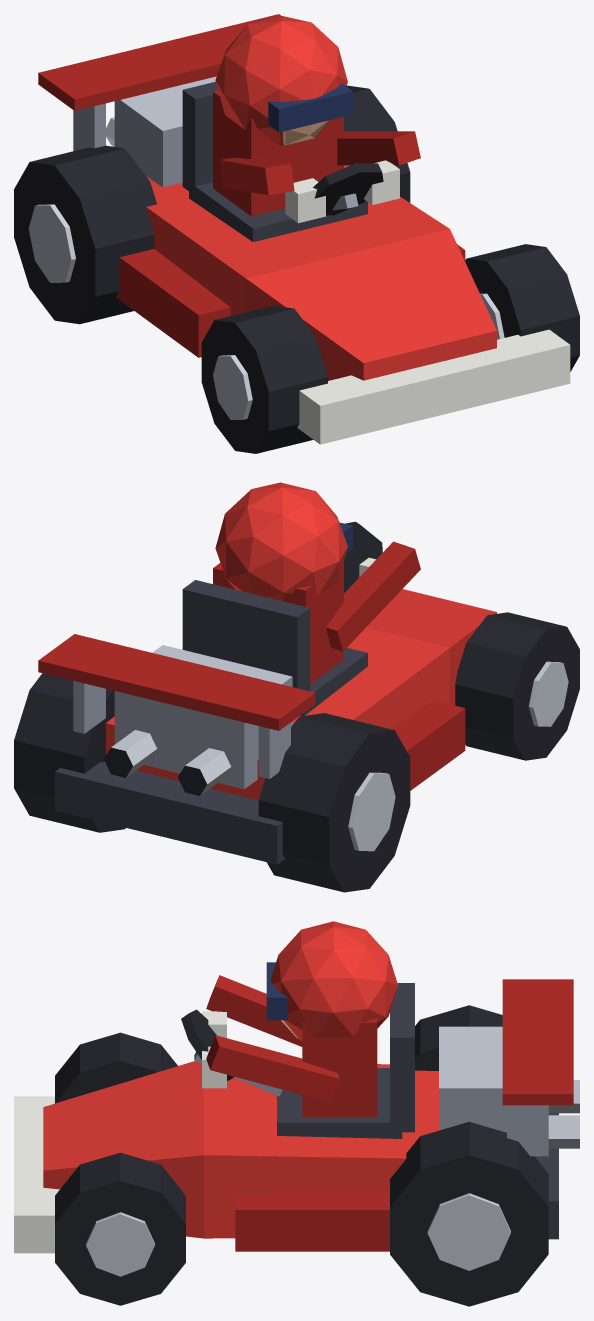
The model's file is kart_red.glb.
3 renders of one model, top to bottom at view 1: azimuth 30°, elevation 25°; view 2: azimuth 150°, elevation 25°; view 3: azimuth 270°, elevation 25°, orthographic. The views are drawn at different scales.
Parts seen in each view (by area): view 1: kart_red; view 2: kart_red; view 3: kart_red.
Boxes of the visible parts, x1,y1,x2,y2 form: kart_red: (14,14,579,453); kart_red: (14,482,579,892); kart_red: (14,921,579,1306).
Bounding box in the file's own units: 1.75 × 1.61 × 2.71.
Materials: 1 (1 with a texture image).
